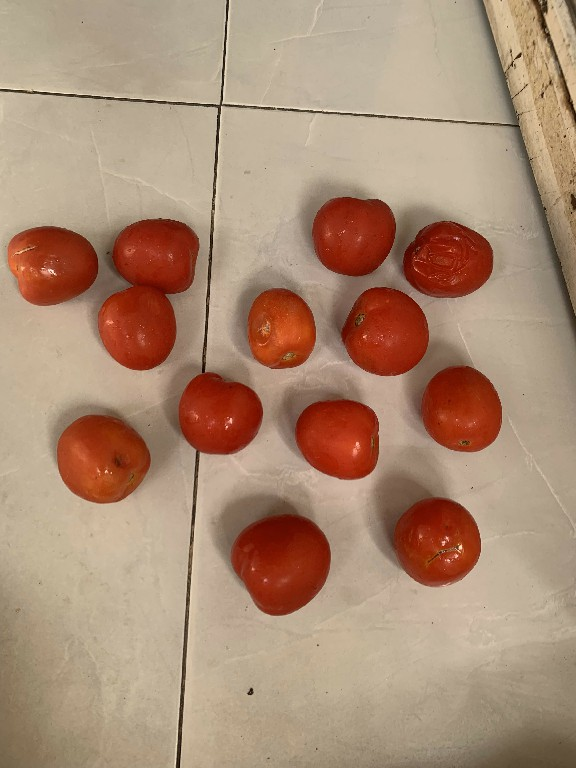NG: (54, 406, 154, 508), (5, 214, 100, 305), (394, 495, 484, 585), (403, 214, 500, 296), (242, 279, 321, 374)
OK: (225, 508, 339, 619), (410, 365, 519, 452), (292, 392, 386, 483), (177, 364, 266, 460), (110, 207, 201, 297), (308, 187, 396, 279), (340, 285, 426, 376), (95, 281, 179, 374)
